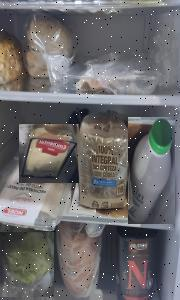Carne pavo: (0, 157, 72, 234)
Leche: (128, 117, 175, 224)
Lechuga/Endivia: (0, 232, 54, 297)
